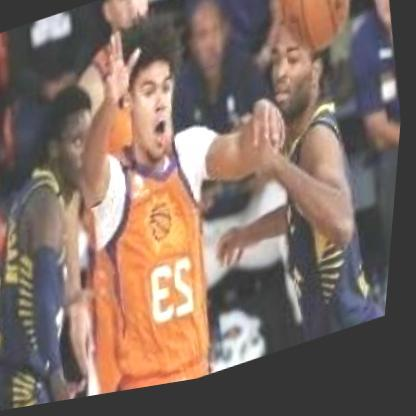basketball: (262, 0, 365, 77)
